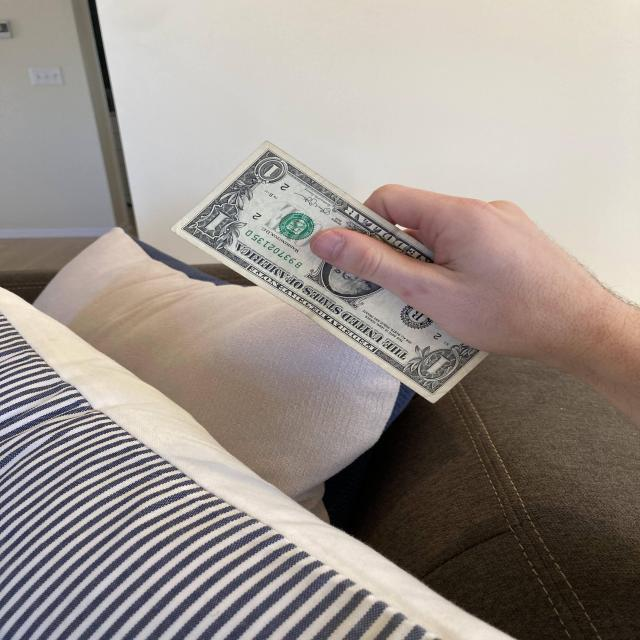one: (168, 140, 533, 406)
